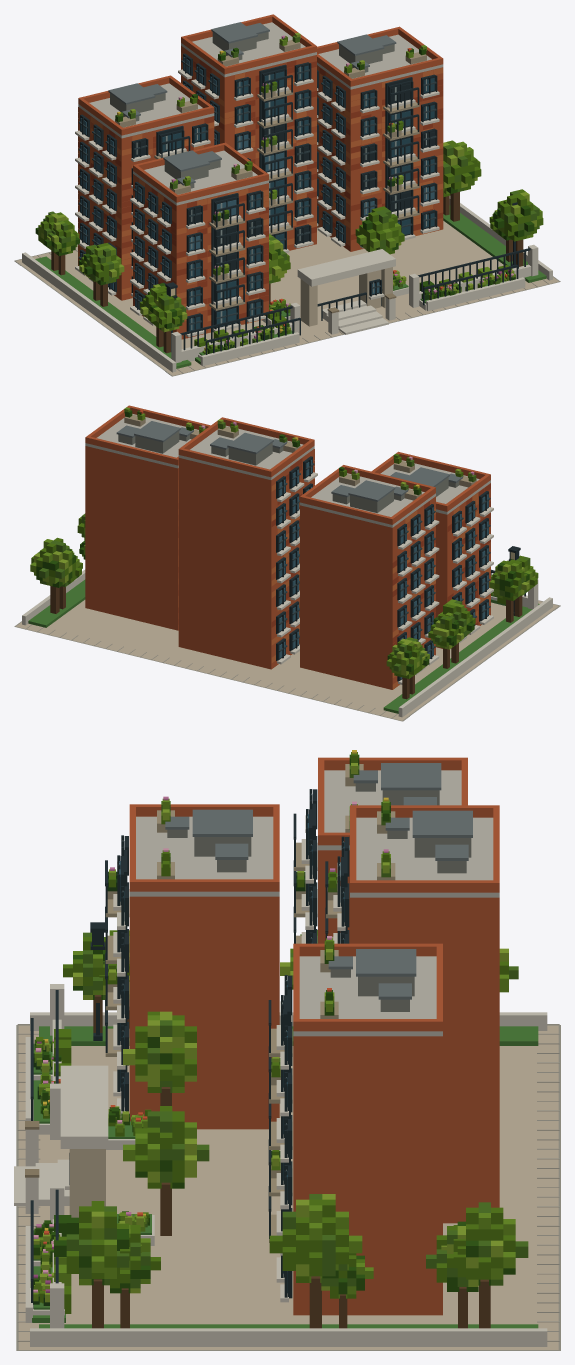
Rendered from SM_Mapa_027.fbx.
3 renders of one model, top to bottom at view 1: azimuth 30°, elevation 25°; view 2: azimuth 150°, elevation 25°; view 3: azimuth 270°, elevation 25°, orthographic. The views are drawn at different scales.
Visible parts, largest first — view 1: SM_Mapa_027; view 2: SM_Mapa_027; view 3: SM_Mapa_027.
Boxes of the visible parts, box(x1,y1,x2,y2) form: SM_Mapa_027: box(14, 14, 560, 376); SM_Mapa_027: box(14, 405, 560, 721); SM_Mapa_027: box(14, 750, 560, 1350).
Bounding box in the file's own units: 32 × 22.4 × 16.19.
